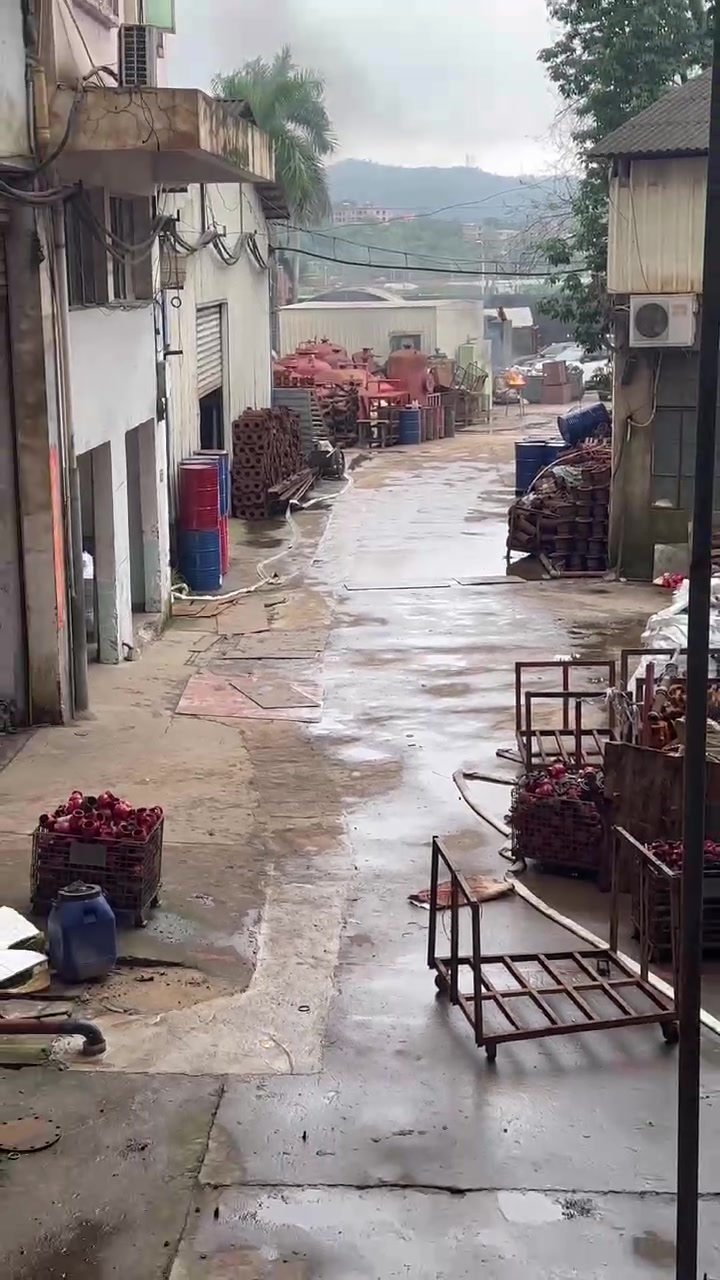fire: (506, 373, 525, 383)
